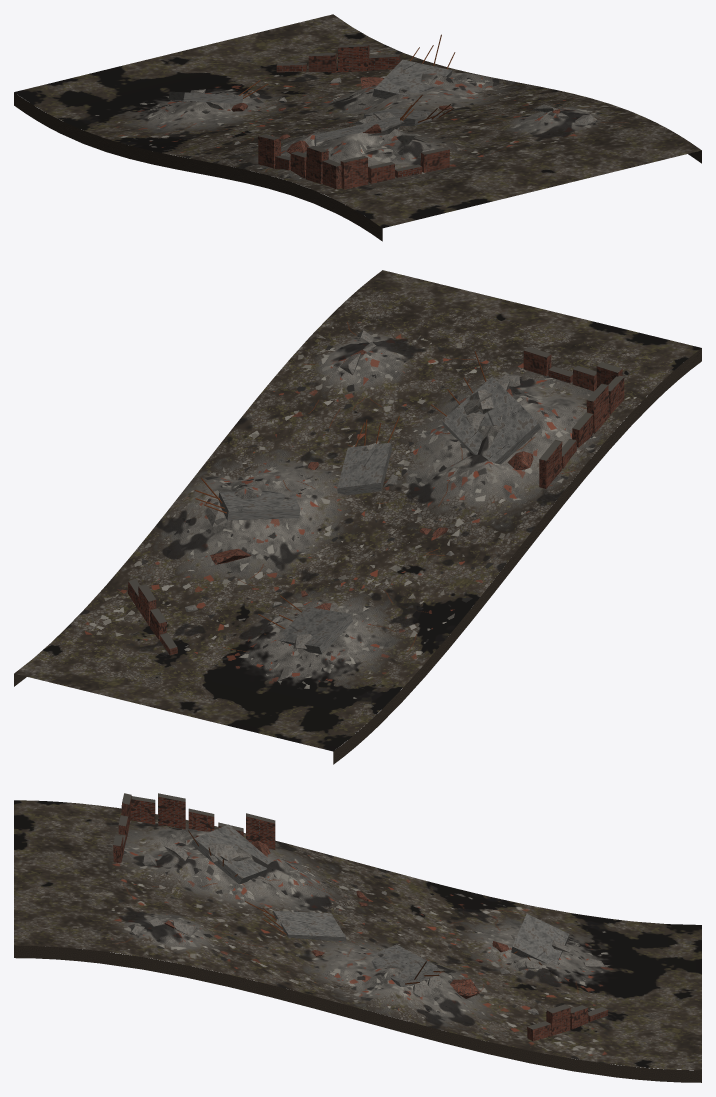
File: Ground_Rubble_Slope_Down400.fbx
3 renders of one model, top to bottom at view 1: azimuth 30°, elevation 25°; view 2: azimuth 150°, elevation 25°; view 3: azimuth 270°, elevation 25°, orthographic. The views are drawn at different scales.
Visible parts, largest first — view 1: Ground_Rubble_Slope_Down400; view 2: Ground_Rubble_Slope_Down400; view 3: Ground_Rubble_Slope_Down400.
Part boxes in pixels (bbox=[...]): Ground_Rubble_Slope_Down400: bbox=[14, 14, 701, 241]; Ground_Rubble_Slope_Down400: bbox=[14, 270, 701, 764]; Ground_Rubble_Slope_Down400: bbox=[14, 793, 701, 1082].
Bounding box in the file's own units: 1000 × 539 × 2000.
Materials: 1 (1 with a texture image).
